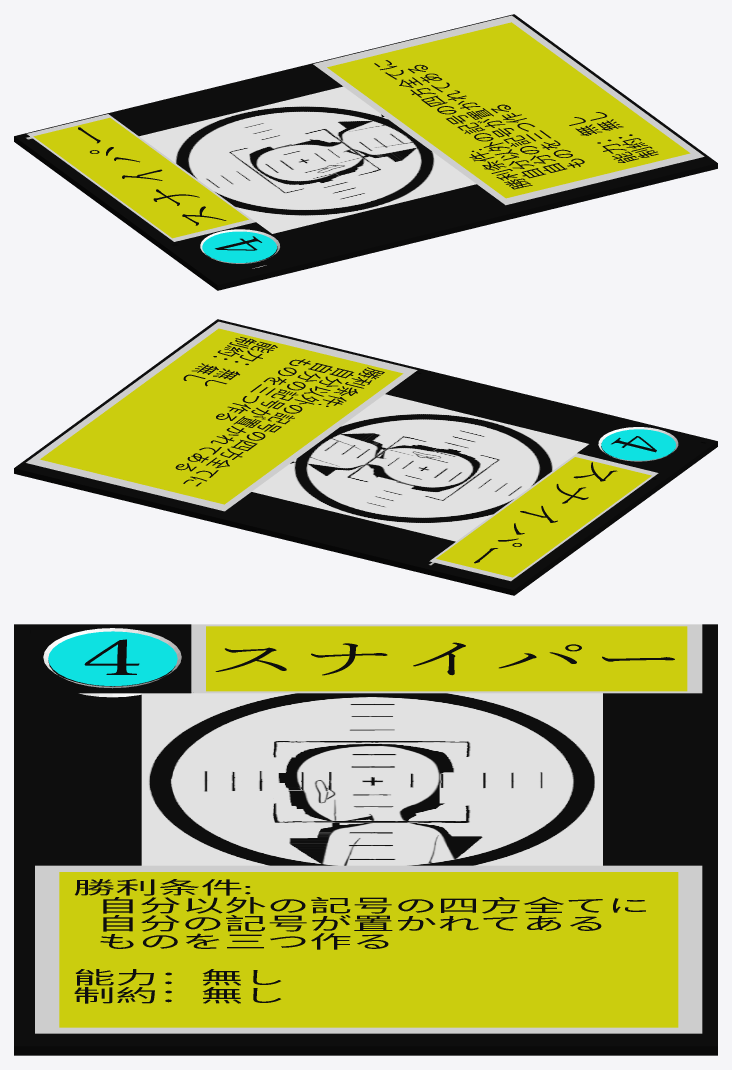
File: スナイパー黒.fbx
3 renders of one model, top to bottom at view 1: azimuth 30°, elevation 25°; view 2: azimuth 150°, elevation 25°; view 3: azimuth 270°, elevation 25°, orthographic. The views are drawn at different scales.
Visible parts, largest first — view 1: 説明欄, 平面.001, カード本体.001, 名前欄, 説明文, 円, 平面, 名前; view 2: 説明欄, 平面.001, カード本体.001, 名前欄, 説明文, 円, 平面, 名前; view 3: 説明欄, 平面.001, カード本体.001, 名前欄, 説明文, 平面, 円, 名前, コスト蘭.
Boxes of the visible parts, left/top/right/bottom form: 説明欄: left=313, top=15, right=704, bottom=205; 平面.001: left=139, top=86, right=476, bottom=233; カード本体.001: left=14, top=14, right=717, bottom=290; 名前欄: left=27, top=114, right=255, bottom=241; 説明文: left=374, top=60, right=658, bottom=189; 円: left=202, top=231, right=276, bottom=262; 平面: left=174, top=222, right=302, bottom=275; 名前: left=78, top=127, right=226, bottom=225; 説明欄: left=26, top=321, right=417, bottom=511; 平面.001: left=252, top=394, right=588, bottom=541; カード本体.001: left=14, top=319, right=717, bottom=595; 名前欄: left=429, top=453, right=658, bottom=581; 説明文: left=175, top=337, right=384, bottom=486; 円: left=601, top=429, right=675, bottom=460; 平面: left=577, top=419, right=704, bottom=472; 名前: left=474, top=462, right=617, bottom=563; 説明欄: left=35, top=865, right=702, bottom=1033; 平面.001: left=141, top=693, right=602, bottom=865; カード本体.001: left=14, top=624, right=717, bottom=1055; 名前欄: left=191, top=624, right=702, bottom=693; 説明文: left=74, top=879, right=645, bottom=1003; 平面: left=30, top=624, right=191, bottom=693; 円: left=48, top=631, right=177, bottom=686; 名前: left=215, top=642, right=674, bottom=675; コスト蘭: left=43, top=628, right=181, bottom=697.
Size of the model in its own units: 281 by 6.07 by 198.
